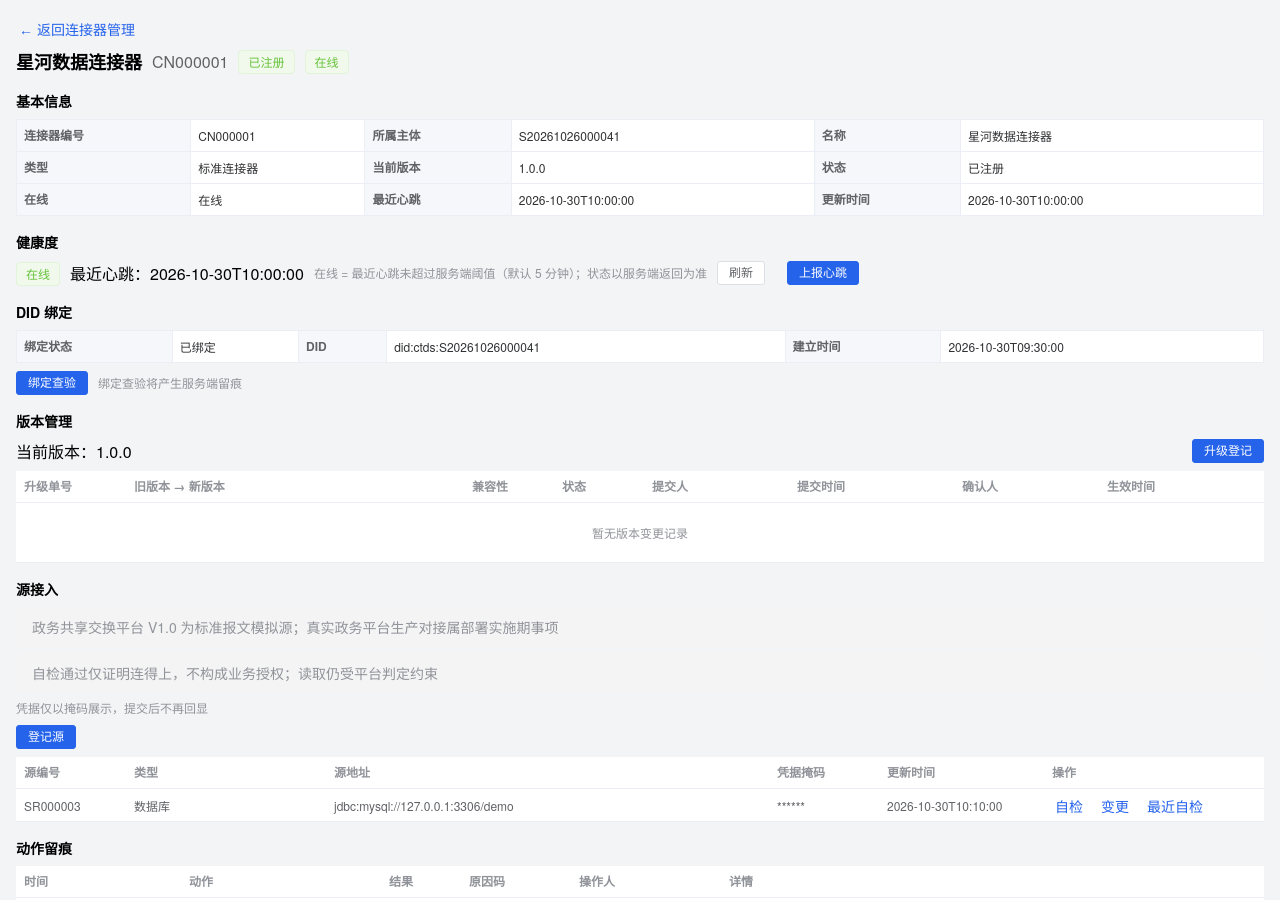
Test: 健康度与绑定查验（T6） › DID 已吊销：verified=false 红字「DID 状态无效」
Click the button "绑定查验" at (52, 383), box [16, 371, 88, 395]
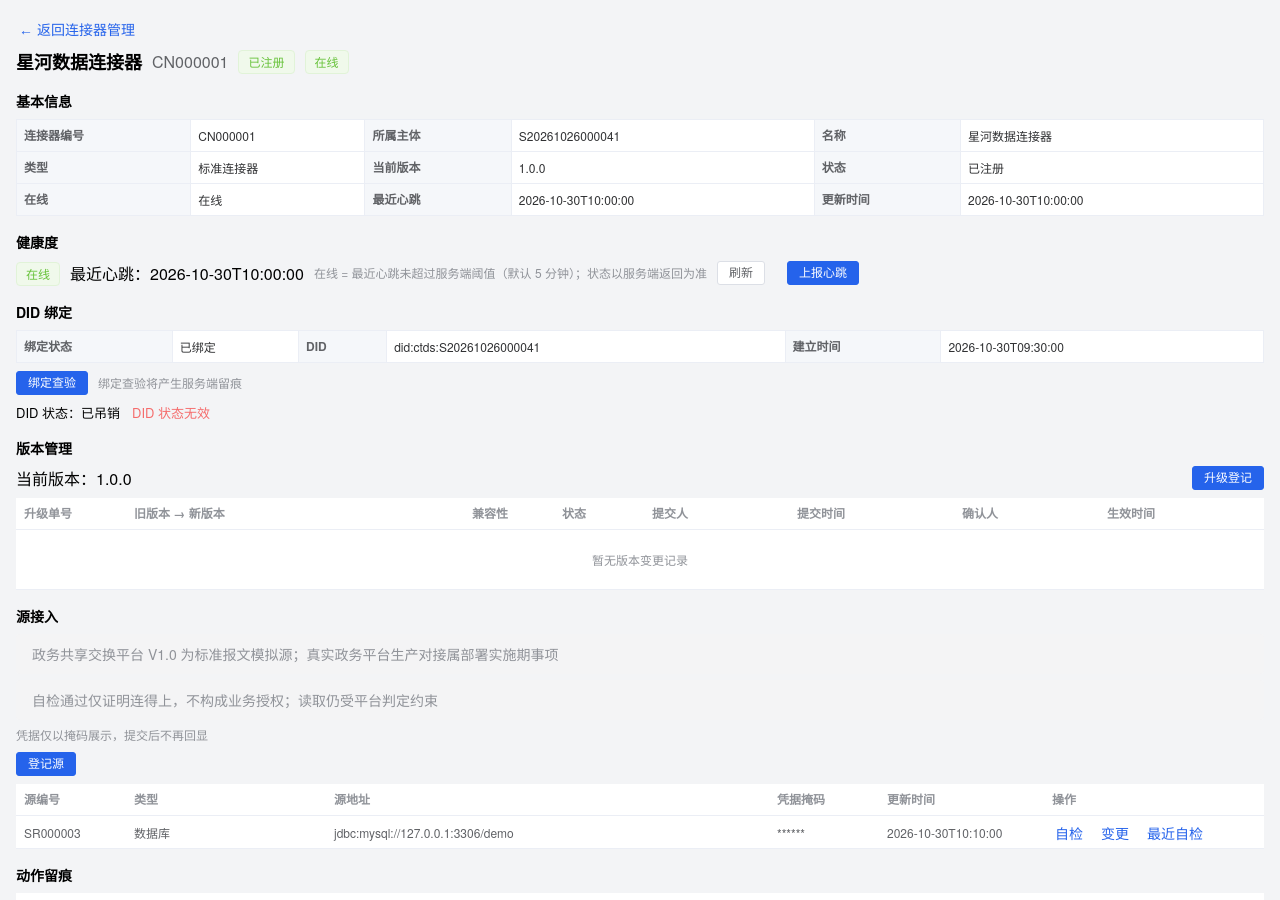
Expected: the text "DID 状态无效" is shown, [132, 403, 210, 422]
